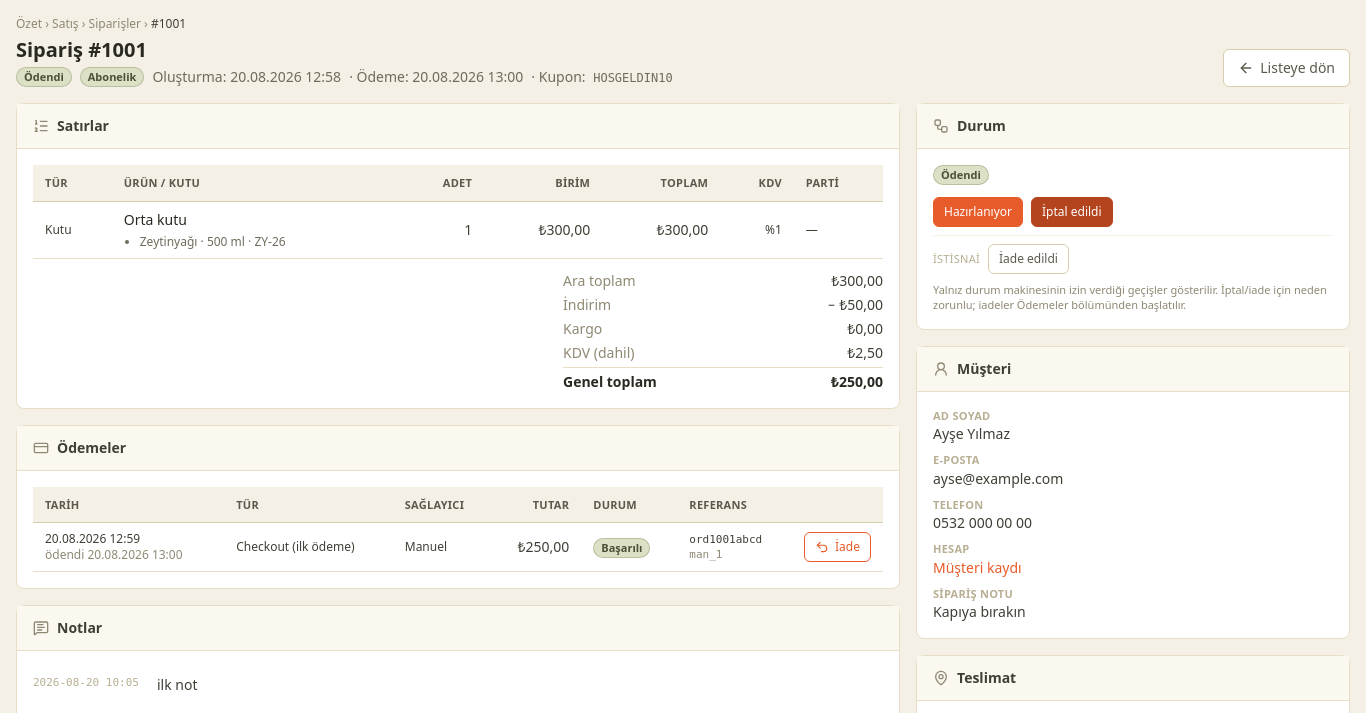
Scenario: AdminSiparisDetayPage › İptal → neden zorunlu (boş gönderim hata) → PATCH {status:CANCELLED, reason}
The width and height of the screenshot is (1366, 713).
Click the button "İptal edildi" at (1072, 212), box [1031, 197, 1112, 227]
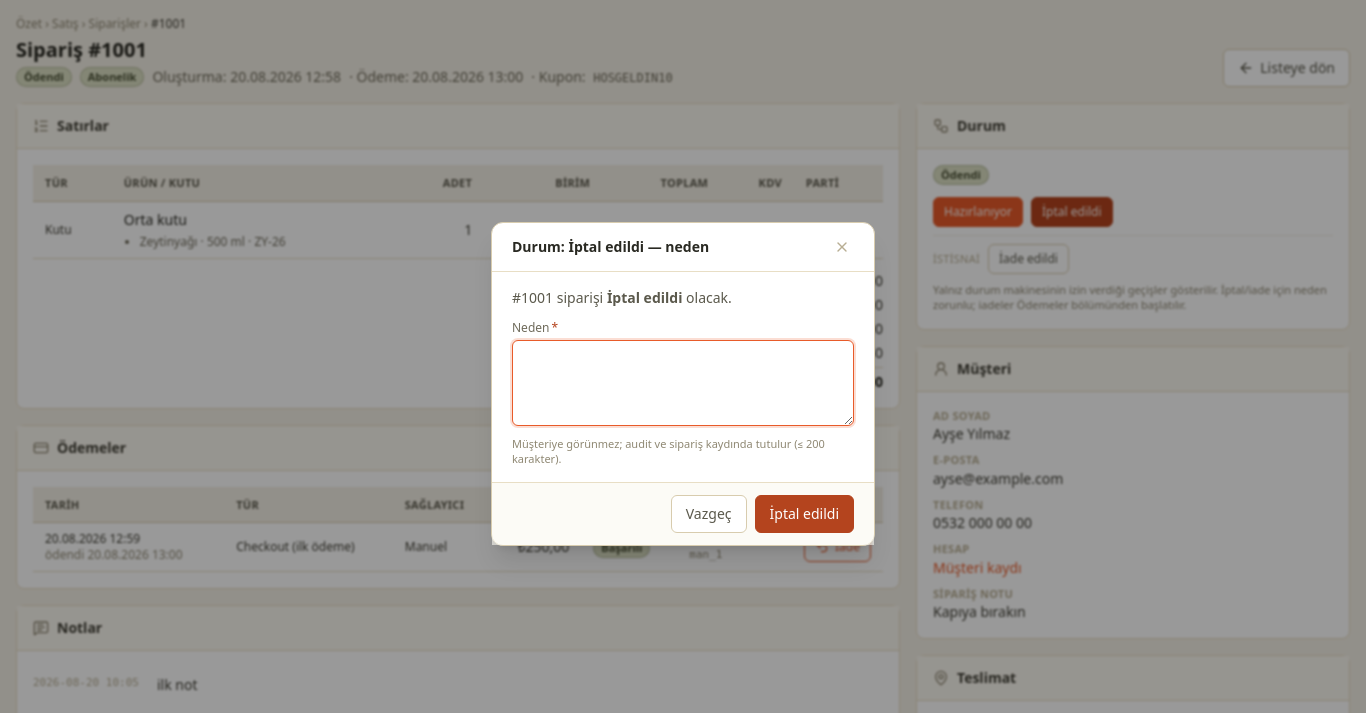
Click the button "İptal edildi" at (804, 514), box [754, 495, 854, 533]
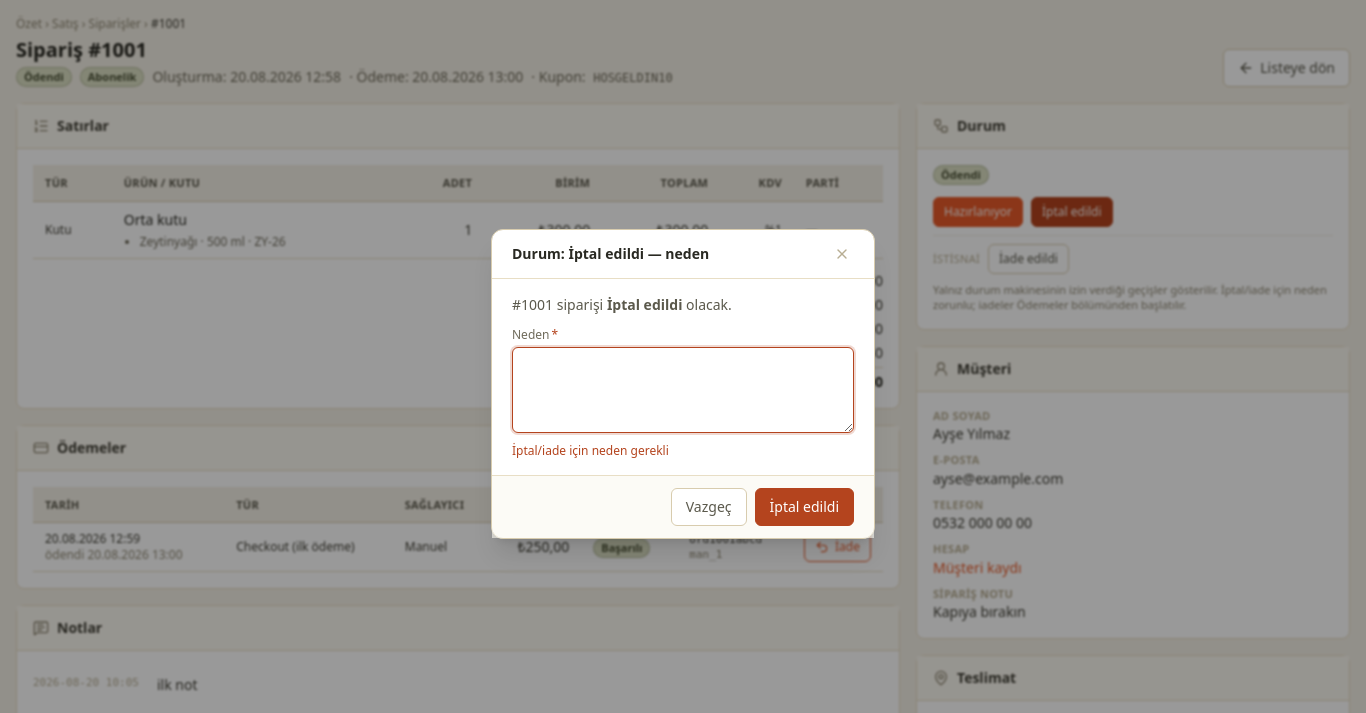
Expected: the text "İptal/iade için neden gerekli" is shown, [512, 442, 669, 459]
Type "Müşteri vazgeçti" into the text box labelled "Neden*" at (683, 390), box [512, 347, 854, 433]
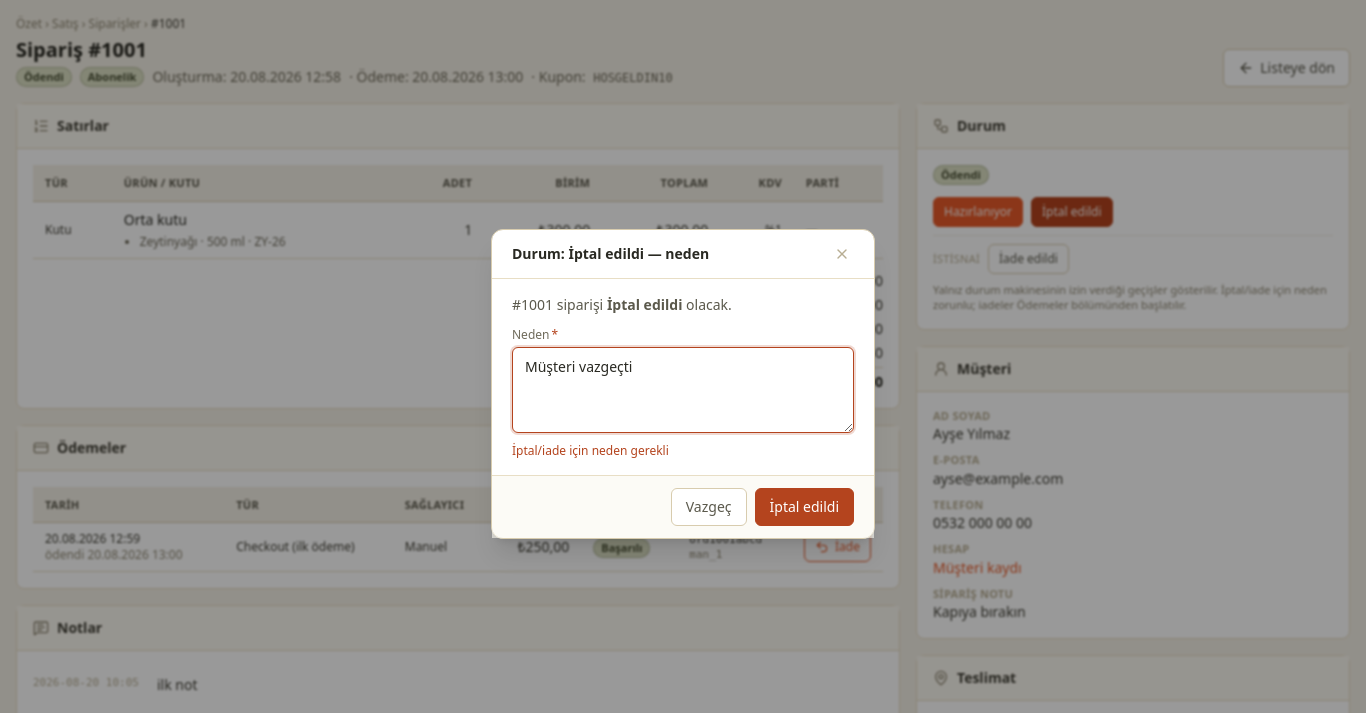
Click the button "İptal edildi" at (804, 507), box [754, 488, 854, 526]
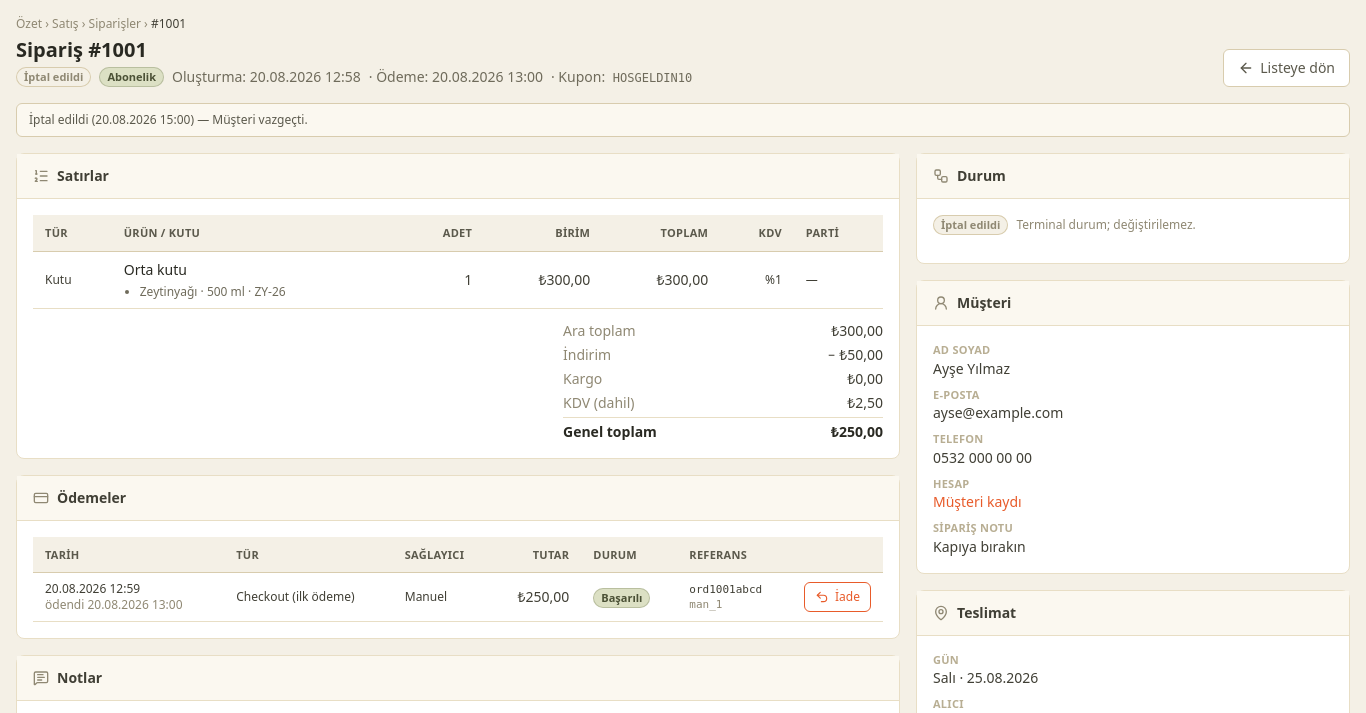
Expected: the text "Terminal durum; değiştirilemez." is shown, [1016, 217, 1196, 233]
